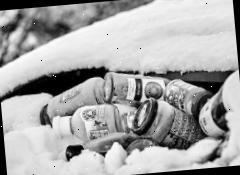glass: (39, 60, 240, 167)
